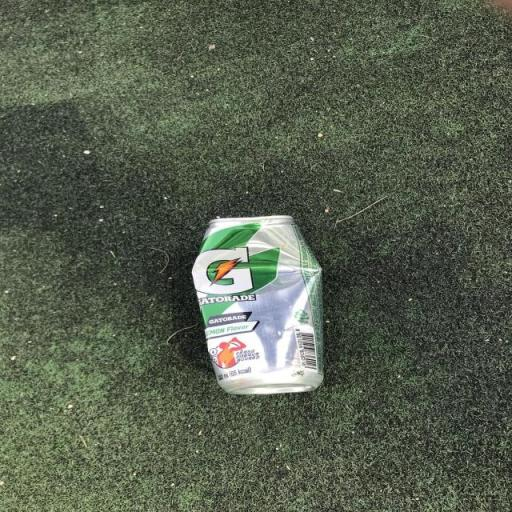metal: (165, 200, 353, 435)
